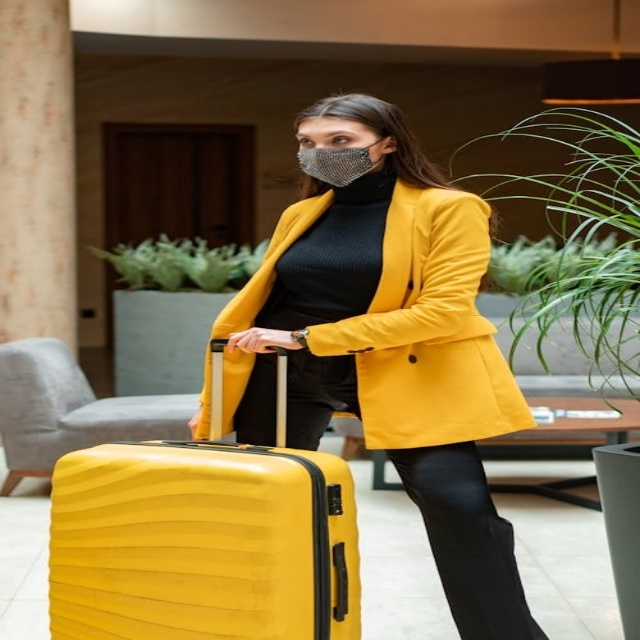Mascara: (298, 140, 387, 187)
Sin_gafas: (296, 128, 362, 147)
Sin_guantes: (227, 323, 297, 357)
